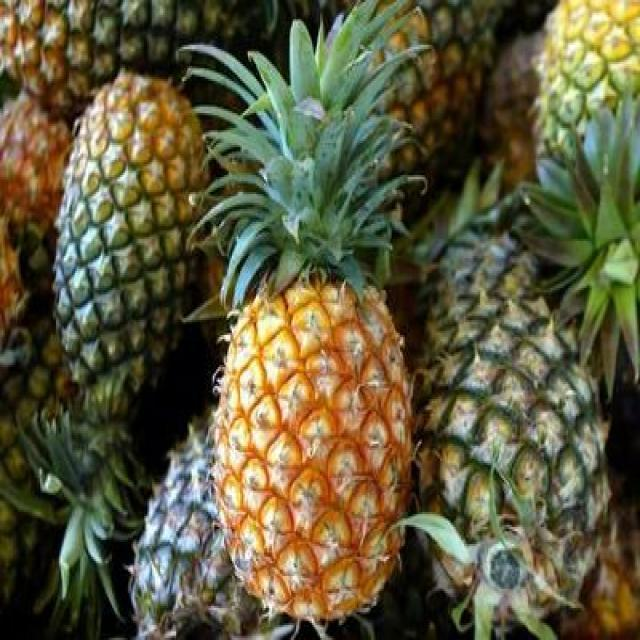pineapple: (189, 3, 416, 621), (22, 72, 206, 632), (415, 228, 609, 631), (0, 0, 276, 118), (130, 422, 259, 638), (390, 0, 501, 174), (0, 92, 71, 346)
